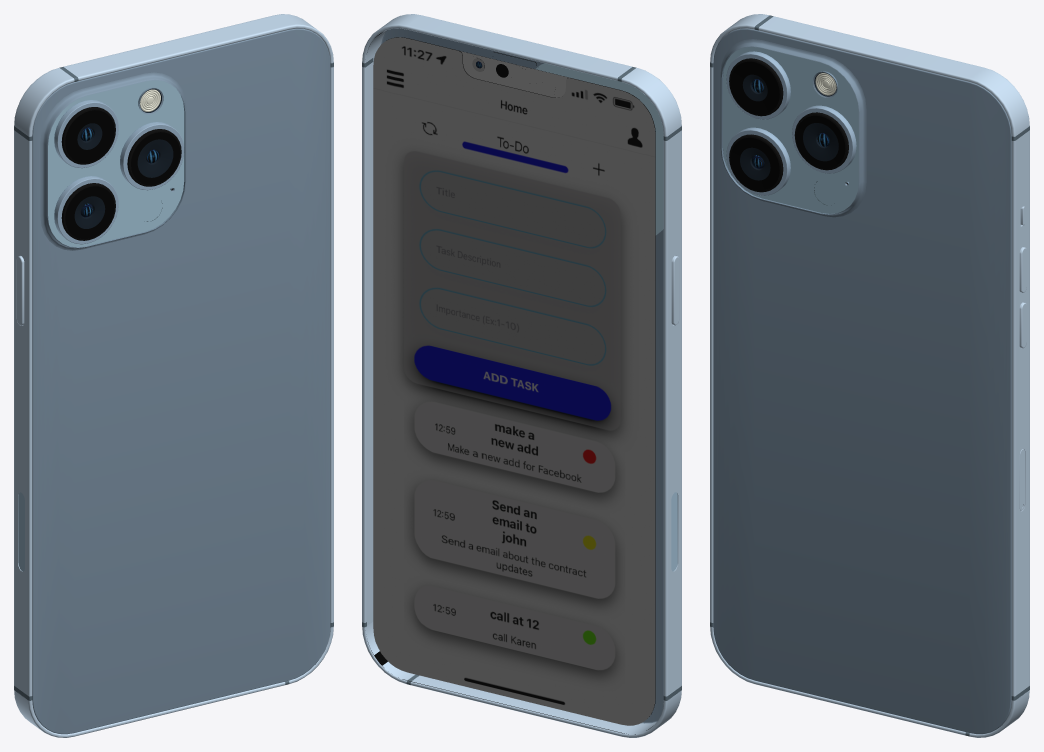
File: Wallpaper_To-doScreen2-3.gltf
3 views of the same model, side by side, from view 1: azimuth 30°, elevation 25°; view 2: azimuth 150°, elevation 25°; view 3: azimuth 330°, elevation 25° (orthographic).
Visible parts, largest first — view 1: Body, Frame, Camera, Camera.001, Button; view 2: Body, Frame, Camera, Button; view 3: Body, Frame, Camera, Camera.001, Button.
Part boxes in pixels (left/top/right/bottom): Body: left=32, top=28, right=330, bottom=734; Frame: left=14, top=14, right=333, bottom=737; Camera: left=40, top=72, right=186, bottom=250; Camera.001: left=54, top=87, right=184, bottom=244; Button: left=16, top=256, right=24, bottom=325; Body: left=367, top=28, right=663, bottom=734; Frame: left=362, top=14, right=681, bottom=737; Camera: left=535, top=63, right=663, bottom=235; Button: left=671, top=255, right=679, bottom=325; Body: left=713, top=28, right=1011, bottom=734; Frame: left=710, top=14, right=1029, bottom=737; Camera: left=720, top=39, right=866, bottom=217; Camera.001: left=726, top=51, right=856, bottom=195; Button: left=1019, top=247, right=1026, bottom=348.
Bounding box in the file's own units: 0.4873 × 0.9905 × 0.0633.
Materials: 20 (3 with a texture image).
